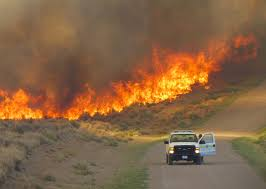fire: (10, 46, 214, 125)
